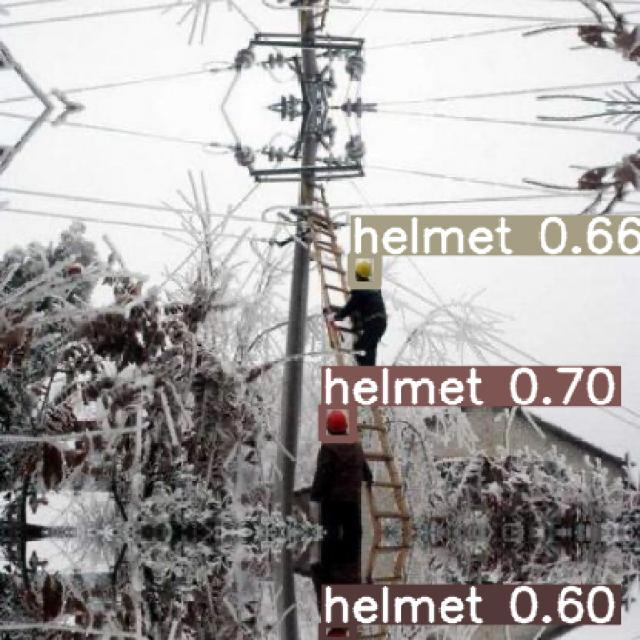Helmet: (325, 409, 348, 434), (354, 258, 371, 279)
